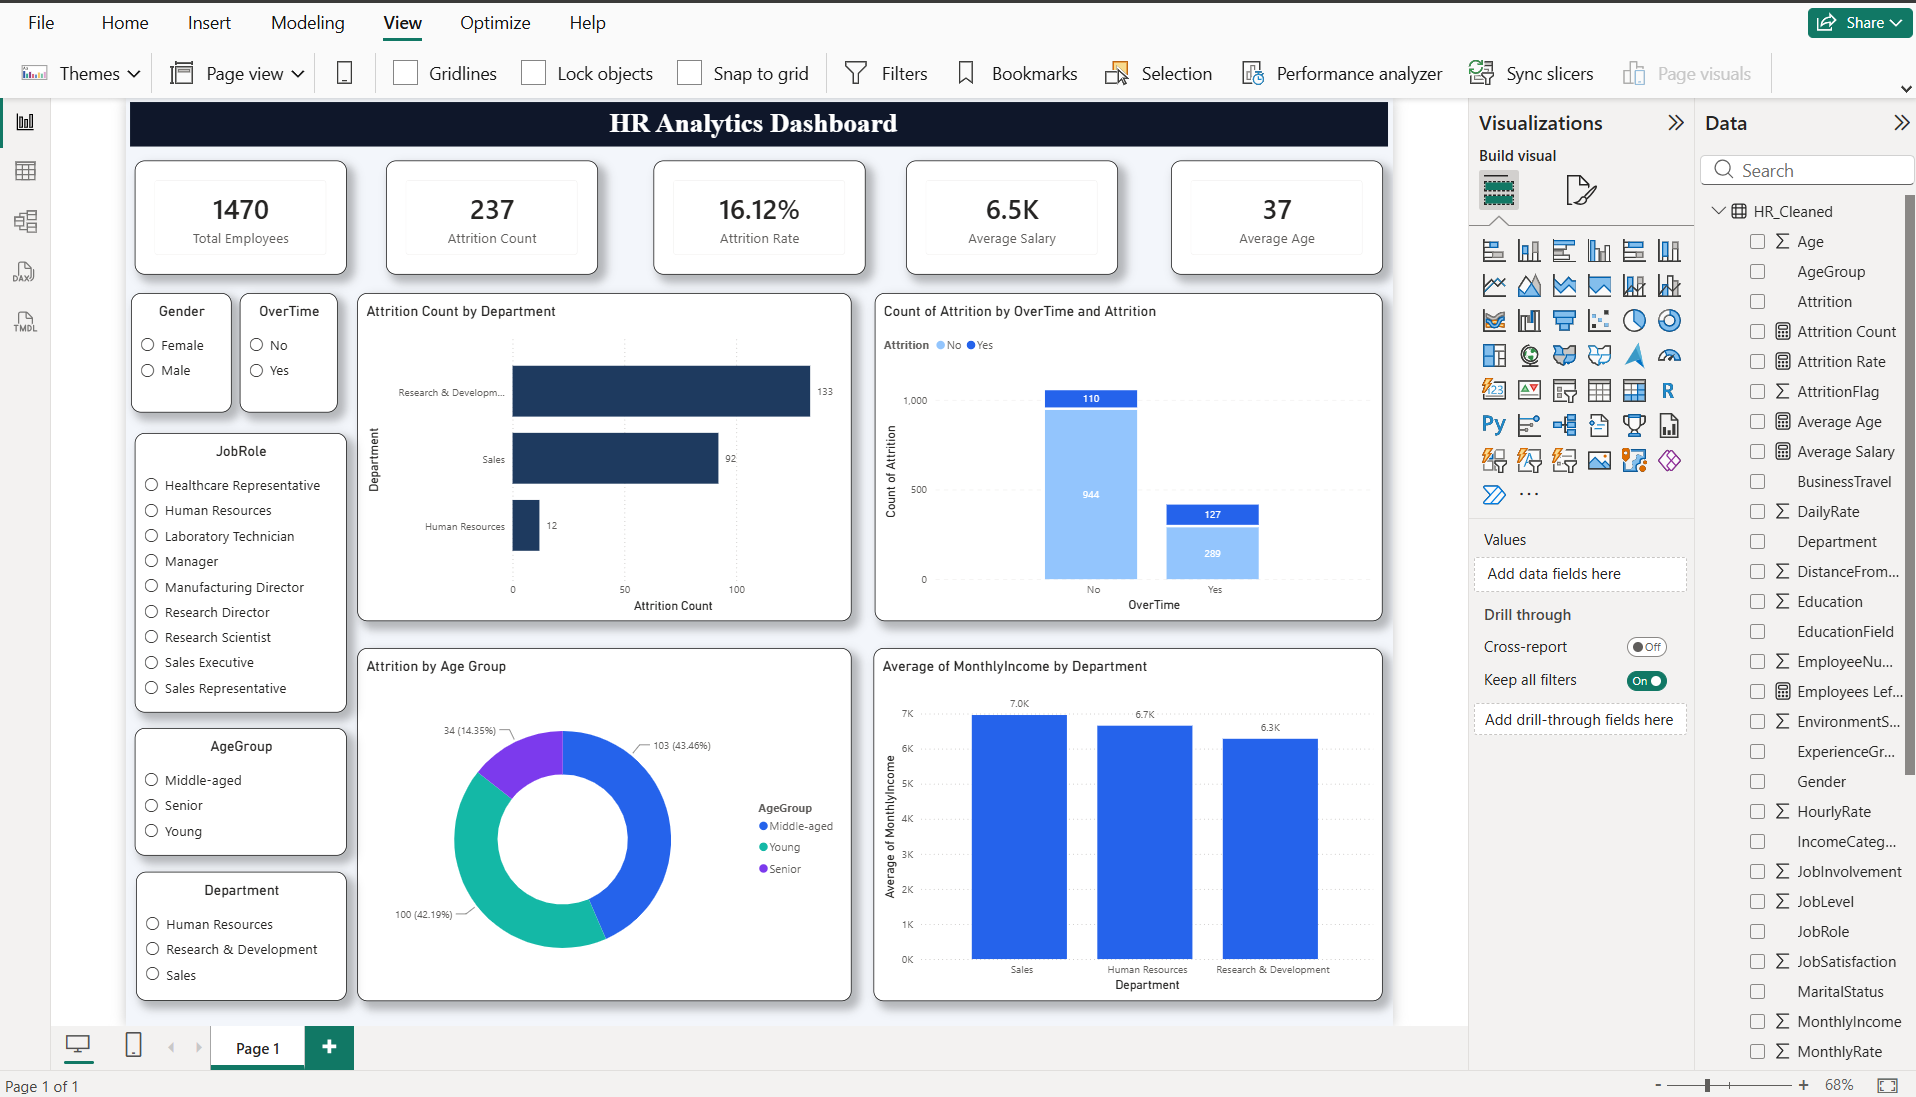

Layout of this report page (visuals, bound fields, positions):
{"tool":"powerbi","page":{"name":"Page 1","canvas":[1500,1100],"ordinal":0},"visuals":[{"type":"cardVisual","fields":{"Data":["HR_Cleaned.Total Employees"]},"box":[9.6,74,250.9,135.1],"z":0},{"type":"cardVisual","fields":{"Data":["HR_Cleaned.Attrition Count"]},"box":[308.7,74,250.9,135.1],"z":1000},{"type":"cardVisual","fields":{"Data":["HR_Cleaned.Attrition Rate"]},"box":[625.5,74,250.9,135.1],"z":2000},{"type":"cardVisual","fields":{"Data":["HR_Cleaned.Average Salary"]},"box":[924.6,74,250.9,135.1],"z":3000},{"type":"cardVisual","fields":{"Data":["HR_Cleaned.Average Age"]},"box":[1238.2,74,250.9,135.1],"z":4000},{"type":"clusteredBarChart","fields":{"Category":["HR_Cleaned.Department"],"Y":["HR_Cleaned.Attrition Count"]},"box":[273.4,231.6,585.3,389.2],"z":5000},{"type":"columnChart","fields":{"Category":["HR_Cleaned.OverTime"],"Series":["HR_Cleaned.Attrition"],"Y":["CountNonNull(HR_Cleaned.Attrition)"]},"box":[887.7,231.6,601.4,389.2],"z":6000},{"type":"donutChart","title":"Attrition by Age Group","fields":{"Category":["HR_Cleaned.AgeGroup"],"Y":["HR_Cleaned.Employees Left by AgeGroup"]},"box":[273.4,651.3,585.3,418.1],"z":7000},{"type":"columnChart","fields":{"Category":["HR_Cleaned.Department"],"Y":["Avg(HR_Cleaned.MonthlyIncome)"]},"box":[886,651.3,603,418.1],"z":8000},{"type":"listSlicer","fields":{"Values":["HR_Cleaned.Gender"]},"box":[6.4,231.6,119,141.5],"z":9000},{"type":"listSlicer","fields":{"Values":["HR_Cleaned.Department"]},"box":[11.3,916.6,249.3,152.8],"z":10000},{"type":"listSlicer","fields":{"Values":["HR_Cleaned.JobRole"]},"box":[9.6,397.2,250.9,331.3],"z":11000},{"type":"listSlicer","fields":{"Values":["HR_Cleaned.AgeGroup"]},"box":[9.6,746.1,250.9,151.2],"z":12000},{"type":"listSlicer","fields":{"Values":["HR_Cleaned.OverTime"]},"box":[135.1,231.6,115.8,141.5],"z":13000},{"type":"shape","box":[0,0,1500.3,62.7],"z":14000},{"type":"textbox","box":[360.2,6.4,767,53.1],"z":15000}]}

Visuals, with their boxes on the page's 1500x1100 design canvas (x1, y1, x2, y2). These are canvas units, not pixel positions in the 1916x1097 screenshot, which may show the page scaled, cropped or inside an application window:
cardVisual - HR_Cleaned.Total Employees: 10/74/260/209
cardVisual - HR_Cleaned.Attrition Count: 309/74/560/209
cardVisual - HR_Cleaned.Attrition Rate: 626/74/876/209
cardVisual - HR_Cleaned.Average Salary: 925/74/1176/209
cardVisual - HR_Cleaned.Average Age: 1238/74/1489/209
clusteredBarChart - HR_Cleaned.Department x HR_Cleaned.Attrition Count: 273/232/859/621
columnChart - HR_Cleaned.OverTime x HR_Cleaned.Attrition: 888/232/1489/621
"Attrition by Age Group" donutChart: 273/651/859/1069
columnChart - HR_Cleaned.Department x Avg(HR_Cleaned.MonthlyIncome): 886/651/1489/1069
listSlicer - HR_Cleaned.Gender: 6/232/125/373
listSlicer - HR_Cleaned.Department: 11/917/261/1069
listSlicer - HR_Cleaned.JobRole: 10/397/260/728
listSlicer - HR_Cleaned.AgeGroup: 10/746/260/897
listSlicer - HR_Cleaned.OverTime: 135/232/251/373
shape: 0/0/1500/63
textbox: 360/6/1127/60
